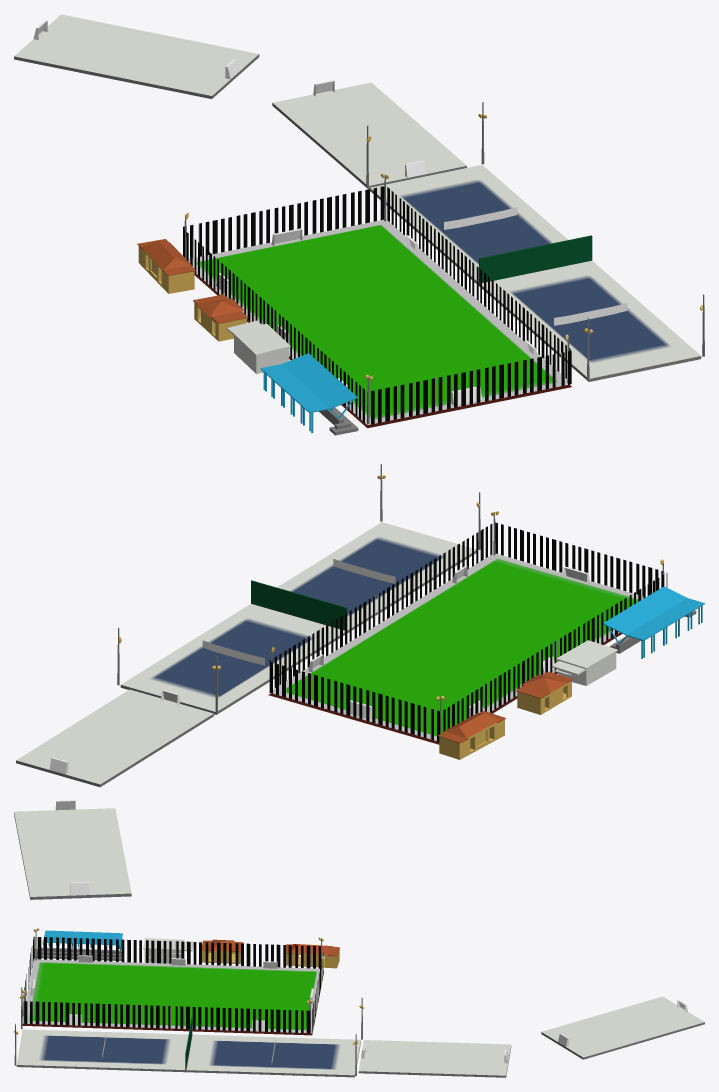
File: Bloque 16LOD1.fbx
3 views of the same model, one above another, from view 1: azimuth 30°, elevation 25°; view 2: azimuth 150°, elevation 25°; view 3: azimuth 270°, elevation 25° (orthographic). The views are drawn at different scales.
Parts seen in each view (by area): view 1: Bloque16_LOD1; view 2: Bloque16_LOD1; view 3: Bloque16_LOD1.
Part boxes in pixels (left/top/right/bottom): Bloque16_LOD1: left=14, top=14, right=704, bottom=435; Bloque16_LOD1: left=14, top=464, right=704, bottom=899; Bloque16_LOD1: left=14, top=928, right=704, bottom=1077.
Bounding box in the file's own units: 6854 × 1045 × 14984.
